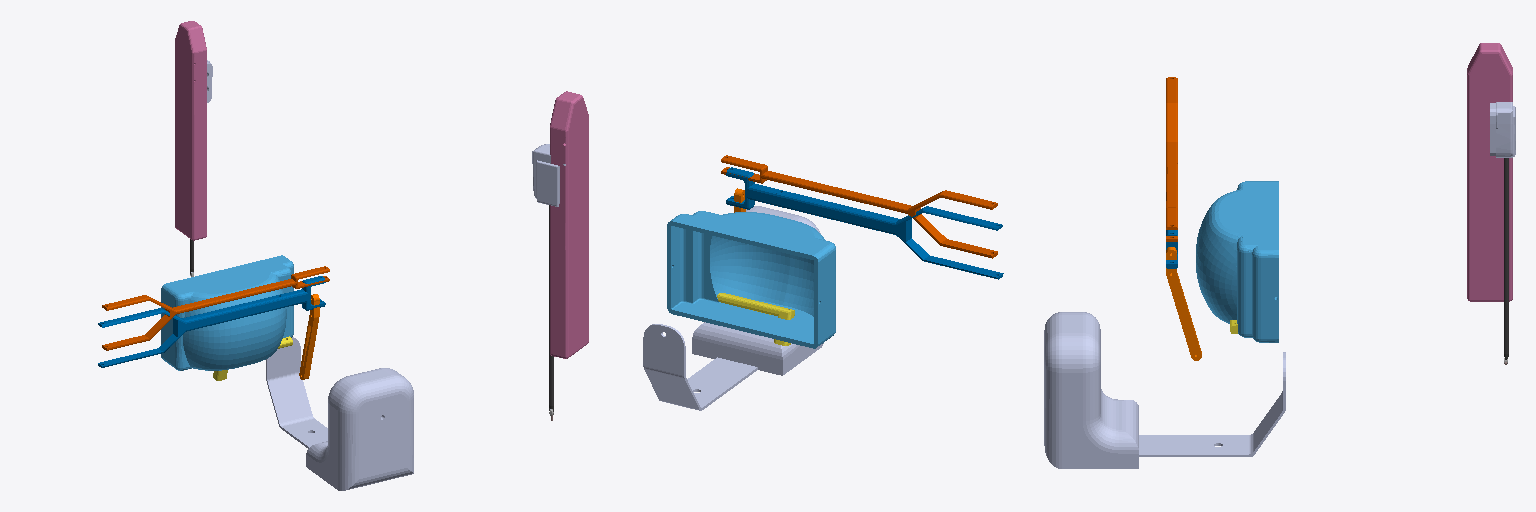
The robot description file, URDF, robot "daVinci":
<?xml version="1.0" encoding="utf-8"?>

<robot name="daVinci">

  <!-- link 0: psm base link -->
  <link name="psm_base_link">
    <visual>
      <origin rpy="1.5708 0 3.1416" xyz="0.039 -0.03888 -0.07879"/>
      <geometry>
        <mesh filename="package://daVinciCore/meshes/psm_base.dae"/>      
      </geometry>
    </visual>
  </link>
  
  <!-- joint 1 -->
  <joint name="outer_yaw_joint" type="revolute">
    <parent link="psm_base_link"/>
    <child link="outer_yaw_link"/>
    <axis xyz="0 0 1"/>
    <origin rpy="1.5708 -1.5708 0" xyz="0.0 0.0 0.0"/>
    <limit lower="-1.5707" upper="1.5707" velocity=".4" effort="1000"/>
  </joint> 
  
  
  <!-- link 1: outer_yaw -->
  <link name="outer_yaw_link">
    <visual>
      <!-- <origin rpy="0 0 -1.5708" xyz="0.0125 0 0.1575"/> -->
      <origin rpy="3.1416 0 1.5708" xyz="0.0125 0 0.1575"/>
      <geometry>
        <mesh filename="package://daVinciCore/meshes/outer_yaw.dae"/>      
      </geometry>
    </visual>
  </link>

  <!-- joint 2-1: outer_pitch_1 -->
  <joint name="outer_pitch_joint_1" type="revolute">
    <parent link="outer_yaw_link"/>
    <child link="outer_pitch_back_link"/>
    <axis xyz="0 0 1"/>
    <origin rpy="-1.5708 -1.5708 0" xyz="0 0.0295 0.1495"/>
    <limit lower="-0.7854" upper="0.7854" velocity=".4" effort="1000"/>
  </joint> 
  
  <!-- link 2: outer_pitch_back -->
  <link name="outer_pitch_back_link">
    <visual>
      <origin rpy="0 0 -0.27129" xyz="0 0 0"/>
      <geometry>
        <mesh filename="package://daVinciCore/meshes/outer_pitch_back.dae"/>      
      </geometry>
    </visual>
  </link>

  <!-- joint 2-2: outer_pitch_2 -->
  <joint name="outer_pitch_joint_2" type="continuous">
    <parent link="outer_yaw_link"/>
    <child link="outer_pitch_front_link"/>
    <axis xyz="0 0 1"/>
    <origin rpy="-1.5708 -1.5708 0" xyz="0 0.0295 0.0595"/>
    <mimic joint="outer_pitch_joint_1" multiplier="1"/>
  </joint>

  <!-- link 2-2: outer_pitch_front -->
  <link name="outer_pitch_front_link">
    <visual>
      <origin rpy="0 0 -0.27129" xyz="0 0 0"/>
      <!-- <origin rpy="0 0 0" xyz="0 0 0"/> -->
      <geometry>
        <mesh filename="package://daVinciCore/meshes/outer_pitch_front.dae"/>      
      </geometry>
    </visual>
  </link>

  <!-- joint 2-3: outer_pitch_3 -->
  <joint name="outer_pitch_joint_3" type="continuous">
    <parent link="outer_pitch_back_link"/>
    <child link="outer_pitch_bottom_link"/>
    <axis xyz="0 0 1"/>
    <origin rpy="0 0 0" xyz="0.04178 0.15007 -0.0137"/>
    <mimic joint="outer_pitch_joint_1" multiplier="-1"/>
  </joint>

  <!-- link 2-3: outer_pitch_bottom -->
  <link name="outer_pitch_bottom_link">
    <visual>
      <origin rpy="0 -1.5708 0" xyz="0.009 0 0"/>
      <geometry>
        <mesh filename="package://daVinciCore/meshes/outer_pitch_bottom.dae"/>      
      </geometry>
    </visual>
  </link>

  <!-- joint 2-4: outer_pitch_4 -->
  <joint name="outer_pitch_joint_4" type="continuous">
    <parent link="outer_pitch_back_link"/>
    <child link="outer_pitch_top_link"/>
    <axis xyz="0 0 1"/>
    <origin rpy="0 0 0" xyz="0.04209 0.18695 -0.02412"/>
    <mimic joint="outer_pitch_joint_1" multiplier="-1"/>
  </joint>

  <!-- link 2-4: outer_pitch_top -->
  <link name="outer_pitch_top_link">
    <visual>
      <origin rpy="0 -1.5708 0" xyz="0.009 0 0"/>
      <geometry>
        <mesh filename="package://daVinciCore/meshes/outer_pitch_top.dae"/>      
      </geometry>
    </visual>
  </link>

  <!-- joint 2-5: outer_pitch_5 -->
  <joint name="outer_pitch_joint_5" type="continuous">
    <parent link="outer_pitch_bottom_link"/>
    <child link="outer_insertion_link"/>
    <axis xyz="0 0 1"/>
    <origin rpy="0 0 0" xyz="-0.520 0 -0.0175"/>
    <mimic joint="outer_pitch_joint_1" multiplier="1"/>
  </joint>

  <!-- link 2-5: outer_insertion -->
  <link name="outer_insertion_link">
    <visual>
      <origin rpy="0 -1.5708 1.5708" xyz="0.02528 0.429 0"/>
      <geometry>
        <mesh filename="package://daVinciCore/meshes/outer_insertion.dae"/>      
      </geometry>
    </visual>
  </link>

  <!-- joint 3: insertion -->
  <joint name="outer_insertion_joint" type="prismatic">
    <parent link="outer_insertion_link"/>
    <child link="tool_main_link"/>
    <axis xyz="0 0 1"/>
    <origin rpy="1.5708 0 0" xyz="-0.0403 0.23622 0"/>
    <limit lower="0" upper="0.240" velocity=".4" effort="1000"/>
  </joint>

  <!-- link 3: tool_main_link -->
  <link name="tool_main_link">
    <visual>
      <origin rpy="0 0 1.5708" xyz="0 0 0"/>
      <geometry>
        <mesh filename="package://daVinciCore/meshes/tool_main.dae"/>      
      </geometry>
    </visual>
  </link>
  
  <!-- joint 4-1: Outer Roll -->
  <joint name="outer_roll_joint" type="revolute">
    <parent link="tool_main_link"/>
    <child link="tool_wrist_link"/>
    <axis xyz="0 0 1"/>
    <origin rpy="0 0 0" xyz="0 0 0.36680"/>
    <limit lower="-2.2689" upper="2.2689" velocity=".4" effort="1000"/>
  </joint>

  <!-- link 4-1: tool_main_link -->
  <link name="tool_wrist_link">
    <visual>
      <origin rpy="0 0 1.5708" xyz="0 0 0"/>
      <geometry>
        <mesh filename="package://daVinciCore/meshes/tool_wrist_link.dae"/>      
      </geometry>
    </visual>
  </link>

  <!-- joint 4-1: Outer Roll shaft -->
  <joint name="outer_roll_shaft_joint" type="fixed">
    <parent link="tool_wrist_link"/>
    <child link="tool_wrist_shaft_link"/>
    <axis xyz="0 0 1"/>
    <origin rpy="0 0 0" xyz="0 0 0.0091"/>
  </joint>

  <!-- link 4-1: tool_wrist_shaft_link -->
  <link name="tool_wrist_shaft_link">
    <visual>
      <origin rpy="1.5708 0 0" xyz="0 0.00401 0"/>
      <geometry>
        <mesh filename="package://daVinciCore/meshes/tool_wrist_shaft_link.dae"/> 
      </geometry>
    </visual>
  </link>

  <!-- joint 5: Outer wrist pitch joint -->
  <joint name="outer_wrist_pitch_joint" type="revolute">
    <parent link="tool_wrist_shaft_link"/>
    <child link="tool_wrist_sca_link"/>
    <axis xyz="0 0 1"/>
    <origin rpy="-1.5708 -1.5708 0" xyz="0 0 0"/>
    <limit lower="-1.5707" upper="1.5707" velocity=".4" effort="1000"/>
  </joint>

  <!-- link 5: tool_wrist_sca_link -->
  <link name="tool_wrist_sca_link">
    <visual>
      <!-- <origin rpy="0 3.1416 0" xyz="0 0 0"/> -->
      <origin rpy="1.5708 3.1416 0" xyz="0.0051 0.0032 0"/>
      <geometry>
        <mesh filename="package://daVinciCore/meshes/tool_wrist_sca_link.dae"/> 
      </geometry>
    </visual>
  </link>

  <!-- joint 5-2: Outer wristyaw joint -->
  <joint name="outer_wrist_yaw_joint" type="revolute">
    <parent link="tool_wrist_sca_link"/>
    <child link="tool_wrist_sca_shaft_link"/>
    <axis xyz="0 0 1"/>
    <origin rpy="-1.5708 -1.5708 0" xyz="0.0089 0 0"/>
    <!-- +/- 80 deg -->
    <limit lower="-1.3963" upper="1.3963" velocity=".4" effort="1000"/>
  </joint>

  <!-- link 5-2: tool_wrist_sca_shaft_link -->
  <link name="tool_wrist_sca_shaft_link">
    <visual>
      <origin rpy="0 0 0" xyz="0 0 -0.0025"/>
      <geometry>
        <mesh filename="package://daVinciCore/meshes/tool_wrist_sca_shaft_link.dae"/> 
      </geometry>
    </visual>
  </link>
  
  <!-- joint 6-1: Outer open angle 1  -->
  <joint name="outer_wrist_open_angle_joint_1" type="revolute">
    <parent link="tool_wrist_sca_shaft_link"/>
    <child link="tool_wrist_sca_ee_link_1"/>
    <axis xyz="0 0 1"/>
    <origin rpy="0 0 0" xyz="0 0 0"/>
    <!-- <origin rpy="-1.5708 -1.5708 0" xyz="0 0 0"/> -->
    <limit lower="0" upper="1.5707" velocity=".4" effort="1000"/>
  </joint>

  <!-- link 6-1: Outer open angle link 1 -->
  <link name="tool_wrist_sca_ee_link_1">
    <visual>
      <origin rpy="0 0 0" xyz="0 0 0"/>
      <geometry>
        <mesh filename="package://daVinciCore/meshes/tool_wrist_sca_link_2.dae"/>
      </geometry>
    </visual>
  </link>

  <!-- joint 6-2: Outer open angle 2   -->
  <joint name="outer_wrist_open_angle_joint_2" type="revolute">
    <parent link="tool_wrist_sca_shaft_link"/>
    <child link="tool_wrist_sca_ee_link_2"/>
    <axis xyz="0 0 1"/>
    <origin rpy="0 0 0" xyz="0 0 0"/>
    <limit lower="-1.5707" upper="1.5707" velocity=".4" effort="1000"/>
    <mimic joint="outer_wrist_open_angle_joint_1" multiplier="-1"/>
  </joint>

  <!-- link 6-2: Outer open angle link 2 -->
  <link name="tool_wrist_sca_ee_link_2">
    <visual>
      <origin rpy="0 3.1516 0" xyz="0 0 0"/>
      <geometry>
        <mesh filename="package://daVinciCore/meshes/tool_wrist_sca_link_2.dae"/>
      </geometry>
    </visual>
  </link>


  
</robot>

--- What the picture shows (computed from the rendered views, not written in the file) ---
The picture shows the robot from 3 angles, left to right: view 1: azimuth 30°, elevation 25°; view 2: azimuth 150°, elevation 25°; view 3: azimuth 270°, elevation 25°; orthographic projection.
Robot: daVinci — 14 links, 13 joints (7 revolute, 4 continuous, 1 prismatic, 1 fixed); root link psm_base_link; default pose: every joint at zero.
Visible links, largest first — view 1: psm_base_link, outer_yaw_link, outer_insertion_link, outer_pitch_bottom_link, outer_pitch_top_link, outer_pitch_back_link; view 2: outer_yaw_link, outer_insertion_link, psm_base_link, outer_pitch_bottom_link, outer_pitch_top_link, tool_main_link, outer_pitch_front_link; view 3: psm_base_link, outer_yaw_link, outer_insertion_link, tool_main_link, outer_pitch_top_link, outer_pitch_back_link.
Link boxes in pixels (bbox=[...]): psm_base_link: bbox=[266, 337, 413, 490]; outer_yaw_link: bbox=[161, 255, 293, 370]; outer_insertion_link: bbox=[175, 21, 206, 240]; outer_pitch_bottom_link: bbox=[98, 276, 325, 367]; outer_pitch_top_link: bbox=[102, 266, 329, 350]; outer_pitch_back_link: bbox=[299, 294, 319, 379]; outer_yaw_link: bbox=[667, 211, 835, 348]; outer_insertion_link: bbox=[550, 91, 588, 358]; psm_base_link: bbox=[643, 206, 823, 410]; outer_pitch_bottom_link: bbox=[726, 167, 1003, 279]; outer_pitch_top_link: bbox=[721, 155, 997, 258]; tool_main_link: bbox=[532, 144, 565, 405]; outer_pitch_front_link: bbox=[717, 293, 794, 345]; psm_base_link: bbox=[1044, 312, 1285, 468]; outer_yaw_link: bbox=[1196, 181, 1278, 342]; outer_insertion_link: bbox=[1467, 43, 1512, 301]; tool_main_link: bbox=[1490, 102, 1515, 353]; outer_pitch_top_link: bbox=[1166, 77, 1177, 241]; outer_pitch_back_link: bbox=[1166, 247, 1201, 360].
Bounding box of the posed robot: 0.6224 × 0.7888 × 0.7334 m (x, y, z).
14 mesh visuals loaded from 13 distinct referenced files (13 Collada DAE).
